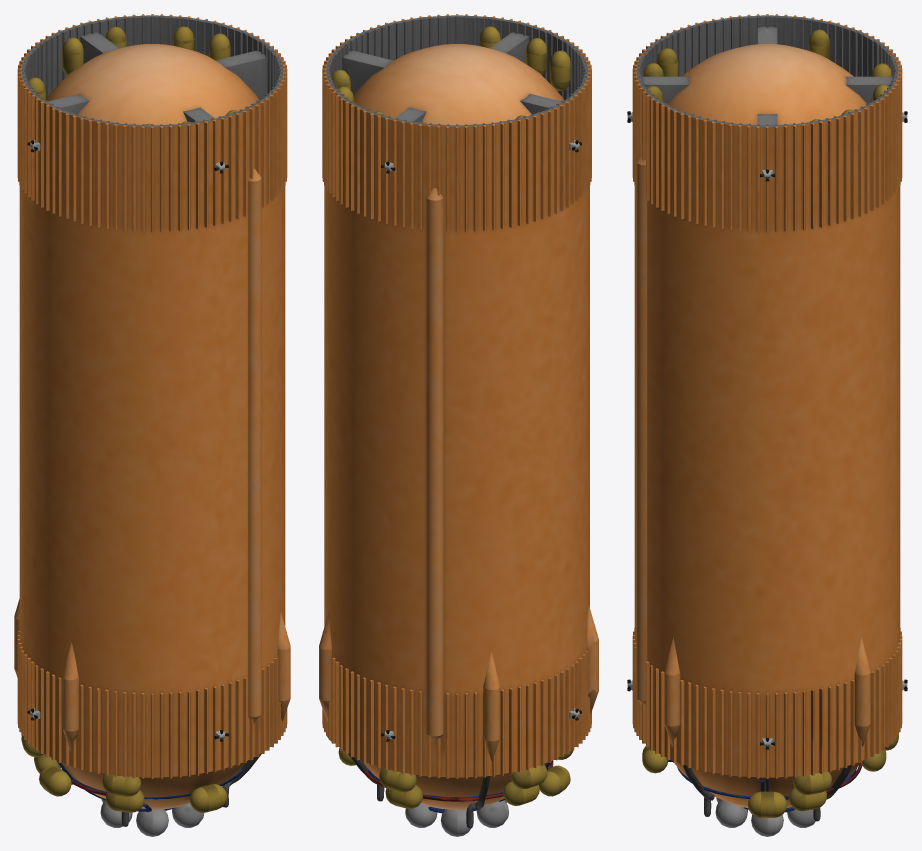
The model's file is ksprocket.fbx.
3 renders of one model, left to right at view 1: azimuth 30°, elevation 25°; view 2: azimuth 150°, elevation 25°; view 3: azimuth 270°, elevation 25°, orthographic.
Parts seen in each view (by area): view 1: tank.008, bits.006; view 2: tank.008, bits.006; view 3: tank.008, bits.006.
Boxes of the visible parts, x1=… form: tank.008: x1=17, y1=14, x2=287, y2=778; bits.006: x1=14, y1=15, x2=290, y2=836; tank.008: x1=322, y1=14, x2=591, y2=778; bits.006: x1=319, y1=15, x2=598, y2=836; tank.008: x1=632, y1=14, x2=902, y2=778; bits.006: x1=627, y1=15, x2=907, y2=836.
Size of the model in its own units: 1067 by 3196 by 1067.
